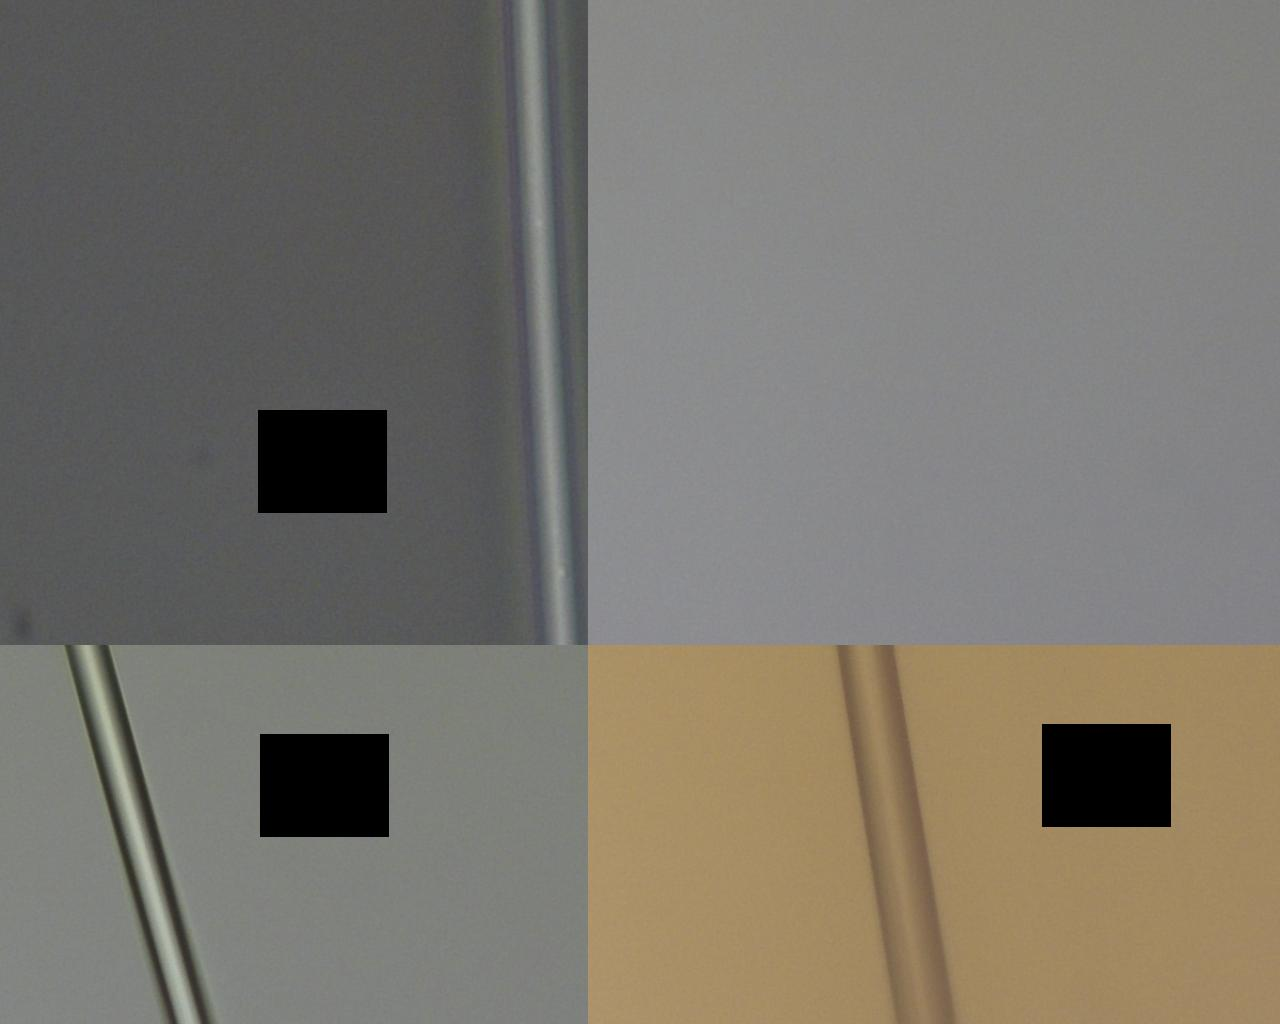fiber: (0, 555, 601, 865), (601, 532, 894, 1024), (0, 358, 565, 461)
